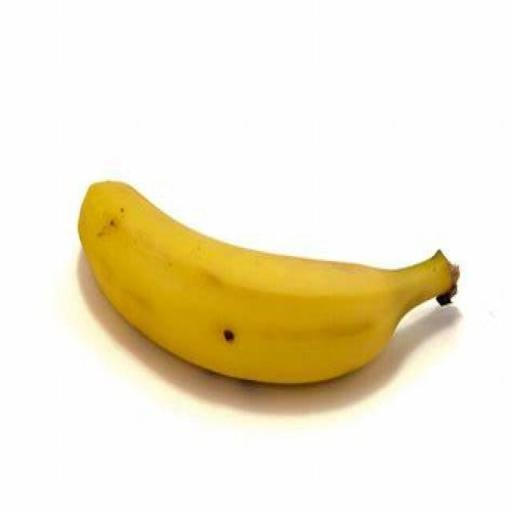fruit: (79, 182, 458, 383)
